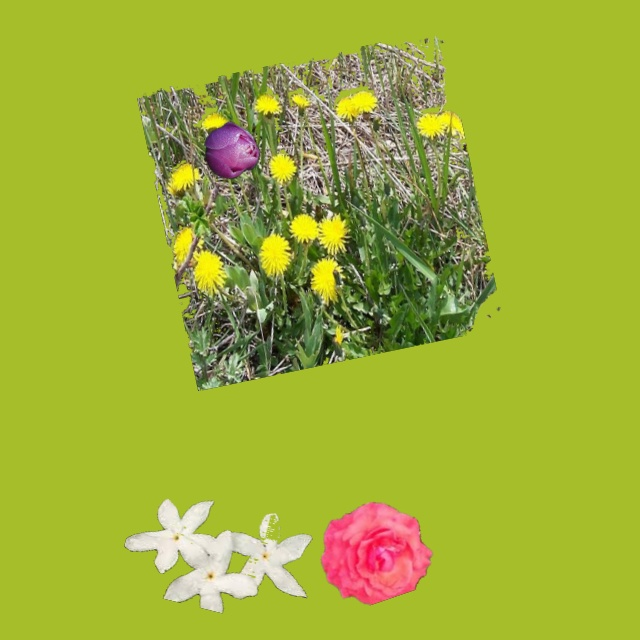dandelion: (137, 37, 499, 390)
jasmine: (124, 499, 312, 612)
rose: (321, 502, 432, 604), (205, 122, 259, 178)
